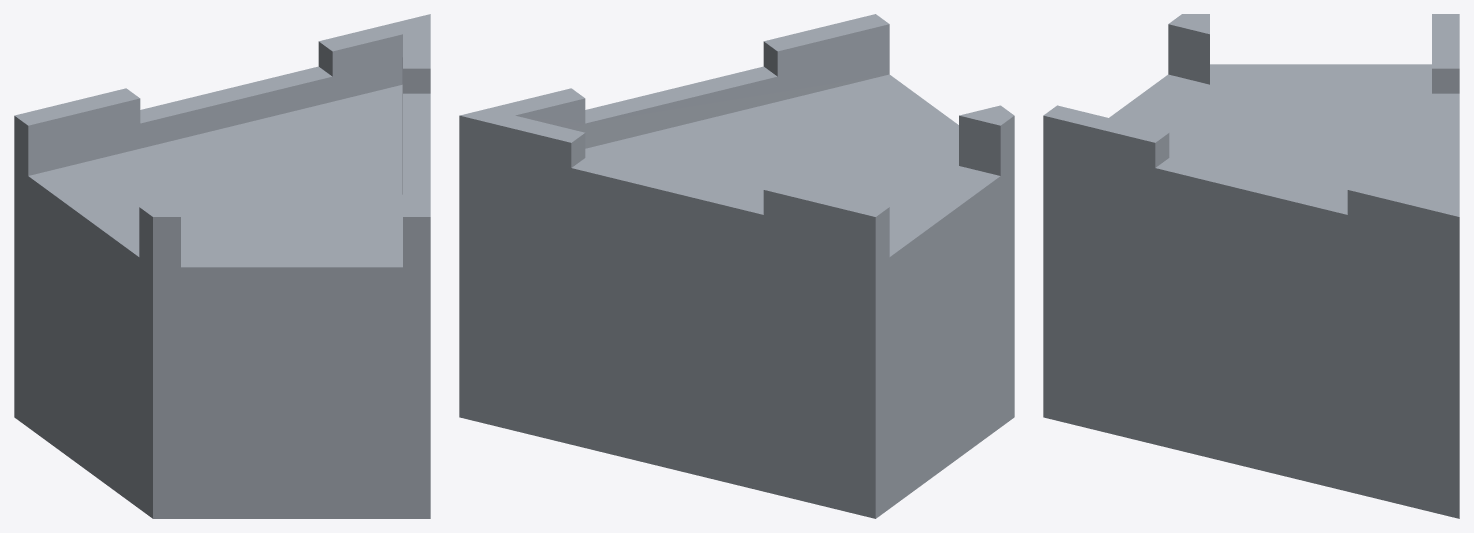
File: wall_top_corner2.fbx
The picture shows the model from 3 angles, left to right: view 1: azimuth 30°, elevation 25°; view 2: azimuth 150°, elevation 25°; view 3: azimuth 270°, elevation 25°; orthographic projection.
Parts seen in each view (by area): view 1: Cylinder; view 2: Cylinder; view 3: Cylinder.
Boxes of the visible parts, bbox=[...] form: Cylinder: bbox=[14, 14, 430, 518]; Cylinder: bbox=[459, 14, 1014, 518]; Cylinder: bbox=[1043, 14, 1459, 518].
Size of the model in its own units: 1.73 by 1.2 by 1.5.
